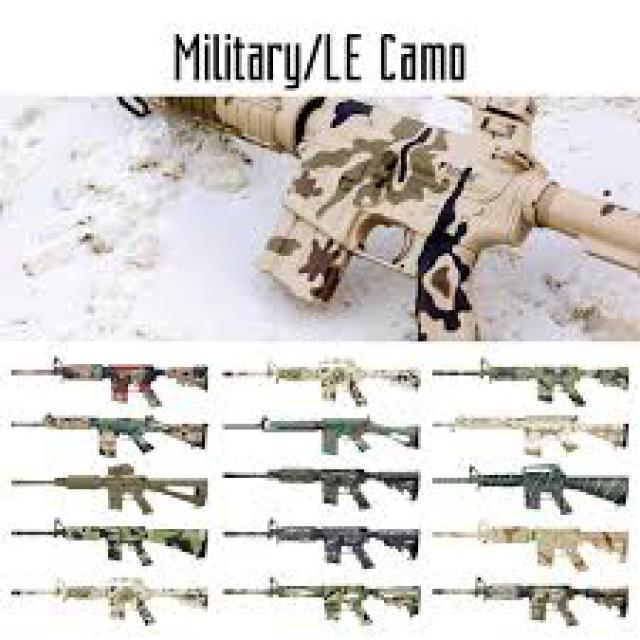long weapon: (3, 343, 214, 410), (218, 347, 425, 410), (228, 455, 429, 516), (428, 573, 629, 633), (433, 349, 637, 408), (25, 510, 218, 571), (429, 457, 635, 514), (224, 571, 421, 630), (13, 410, 220, 465), (19, 569, 210, 628), (447, 398, 631, 457), (433, 520, 634, 573), (17, 465, 222, 516), (240, 514, 429, 565), (220, 412, 430, 452)
